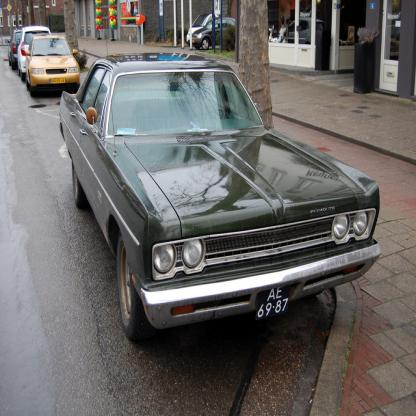Car: (63, 55, 372, 338), (27, 31, 81, 95), (19, 27, 52, 78), (191, 19, 237, 52), (187, 14, 219, 41), (8, 27, 23, 68)
